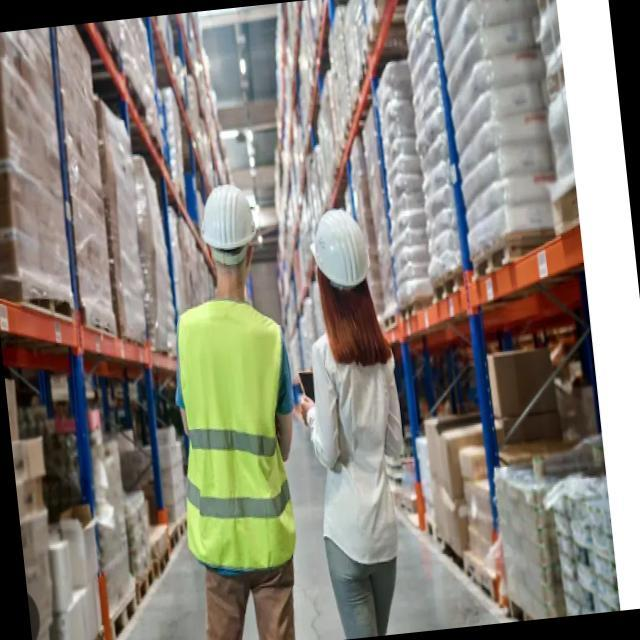helmet: (304, 203, 379, 314), (194, 180, 263, 291)
vest: (165, 289, 306, 578)
